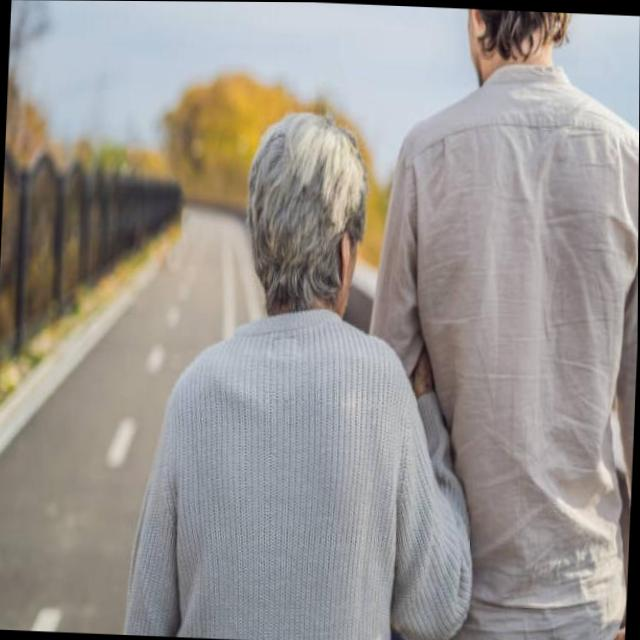no helmet: (240, 115, 372, 329)
